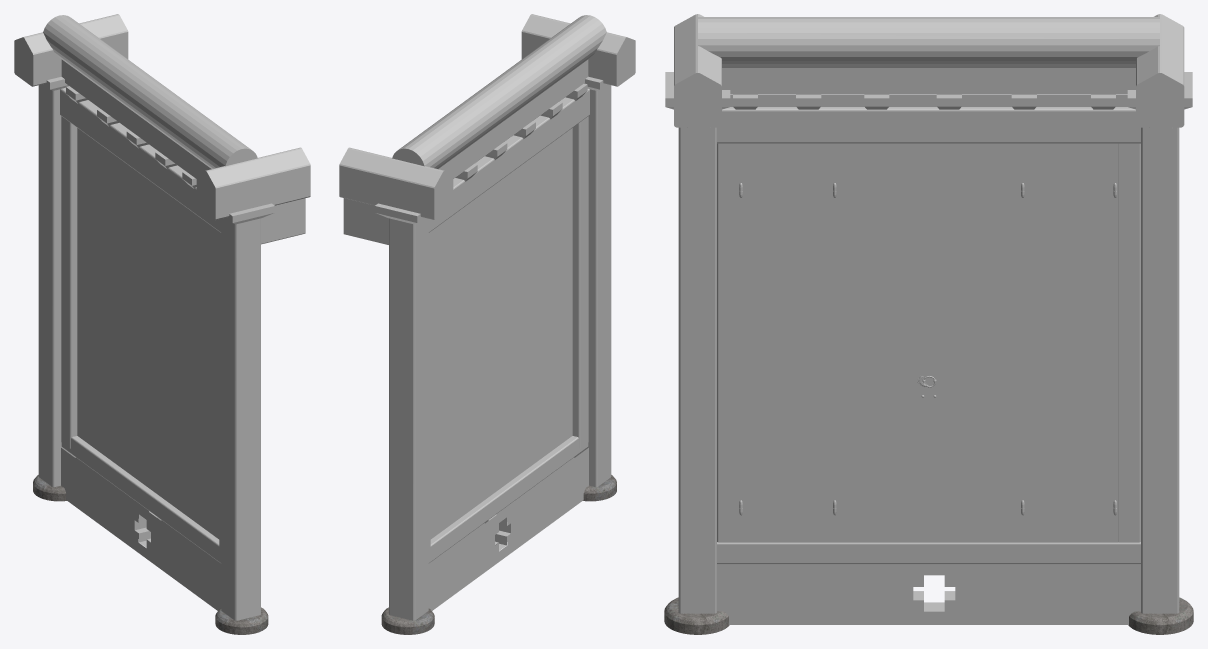
The model's file is SM_Building_Wall_14.FBX.
3 views of the same model, side by side, from view 1: azimuth 30°, elevation 25°; view 2: azimuth 150°, elevation 25°; view 3: azimuth 270°, elevation 25° (orthographic). The views are drawn at different scales.
Visible parts, largest first — view 1: SM_Building_Wall_14; view 2: SM_Building_Wall_14; view 3: SM_Building_Wall_14.
Boxes of the visible parts, x1,y1,x2,y2 form: SM_Building_Wall_14: (14, 14, 310, 634); SM_Building_Wall_14: (339, 14, 635, 634); SM_Building_Wall_14: (664, 14, 1193, 634).
Bounding box in the file's own units: 166 × 789 × 630.
